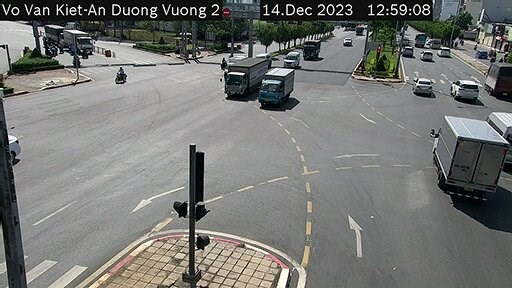car: (449, 78, 478, 101), (412, 75, 435, 98), (287, 48, 303, 66)
motorbike: (112, 64, 127, 85)
truck: (421, 116, 507, 199), (222, 54, 272, 104), (263, 68, 290, 106), (301, 35, 322, 60)
